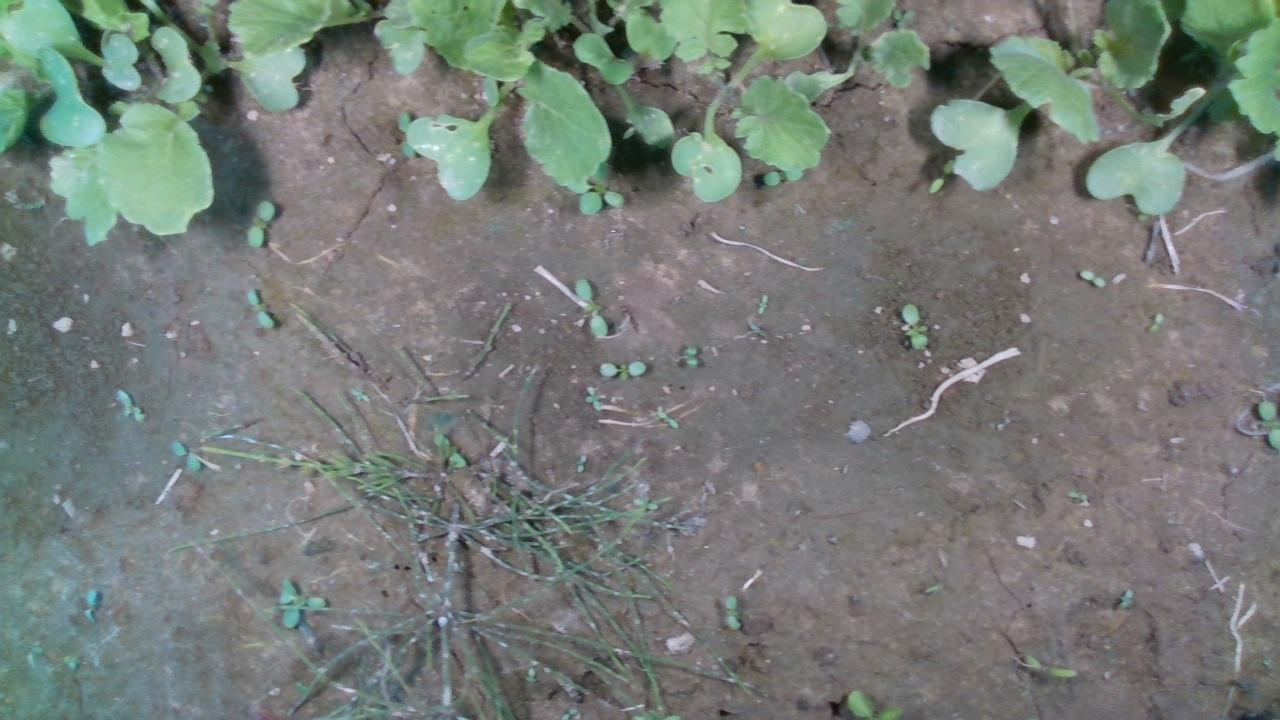weed: (573, 278, 608, 339), (245, 199, 275, 249), (899, 301, 928, 349), (245, 288, 274, 330), (167, 439, 201, 470), (597, 360, 646, 380), (723, 594, 740, 632), (81, 586, 97, 625), (584, 383, 604, 411), (1077, 267, 1106, 286), (1148, 312, 1162, 334), (574, 453, 587, 472)
